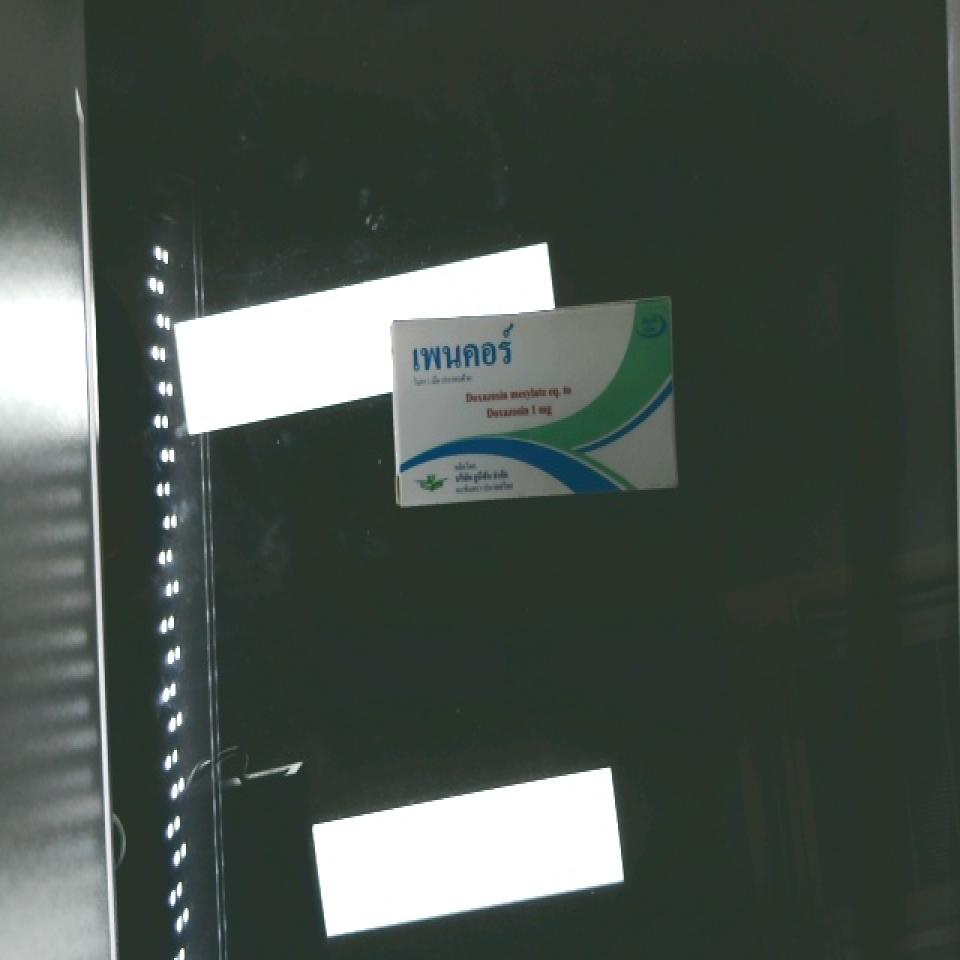medicine_box: (385, 298, 681, 510)
medicine_label_obb: (392, 316, 537, 388)
